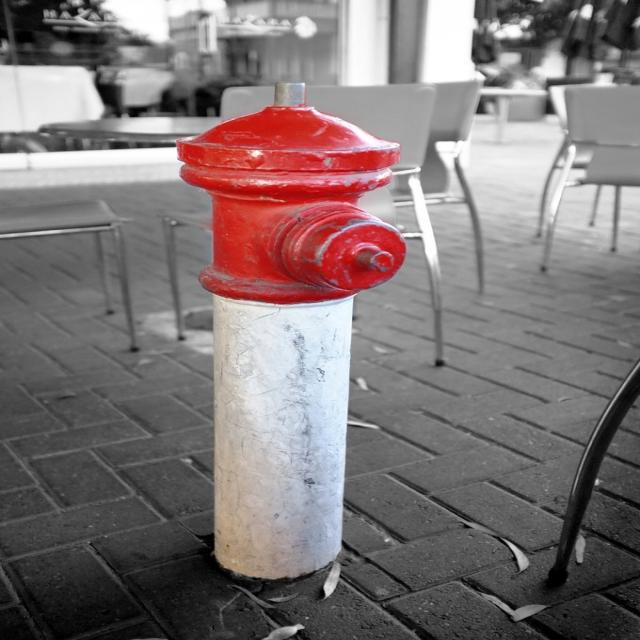fire_hydrant: (130, 84, 463, 590)
